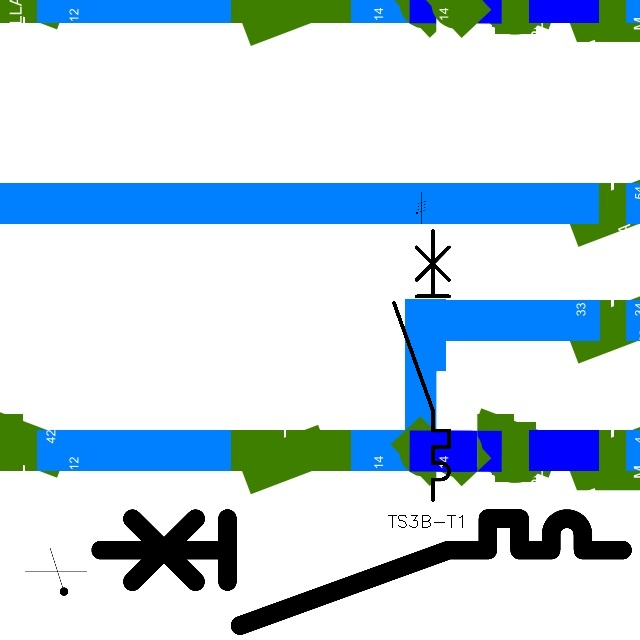interruptor_termomagnetico: (87, 505, 636, 639), (387, 224, 456, 507)
